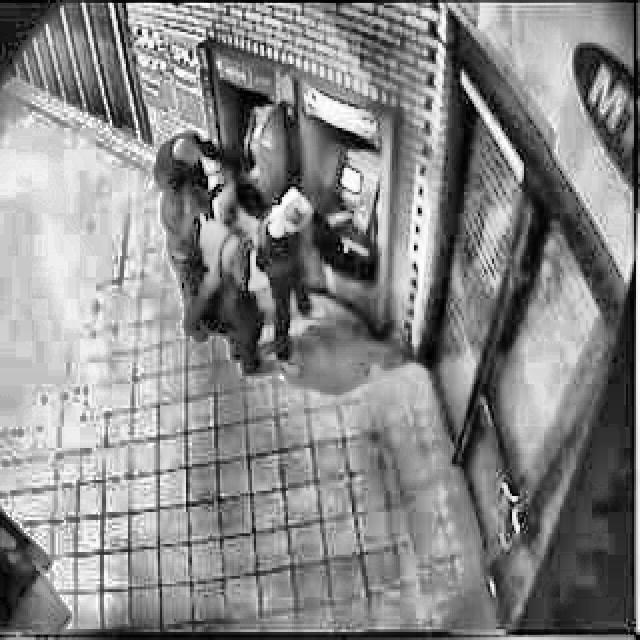burglary: (154, 81, 388, 382)
